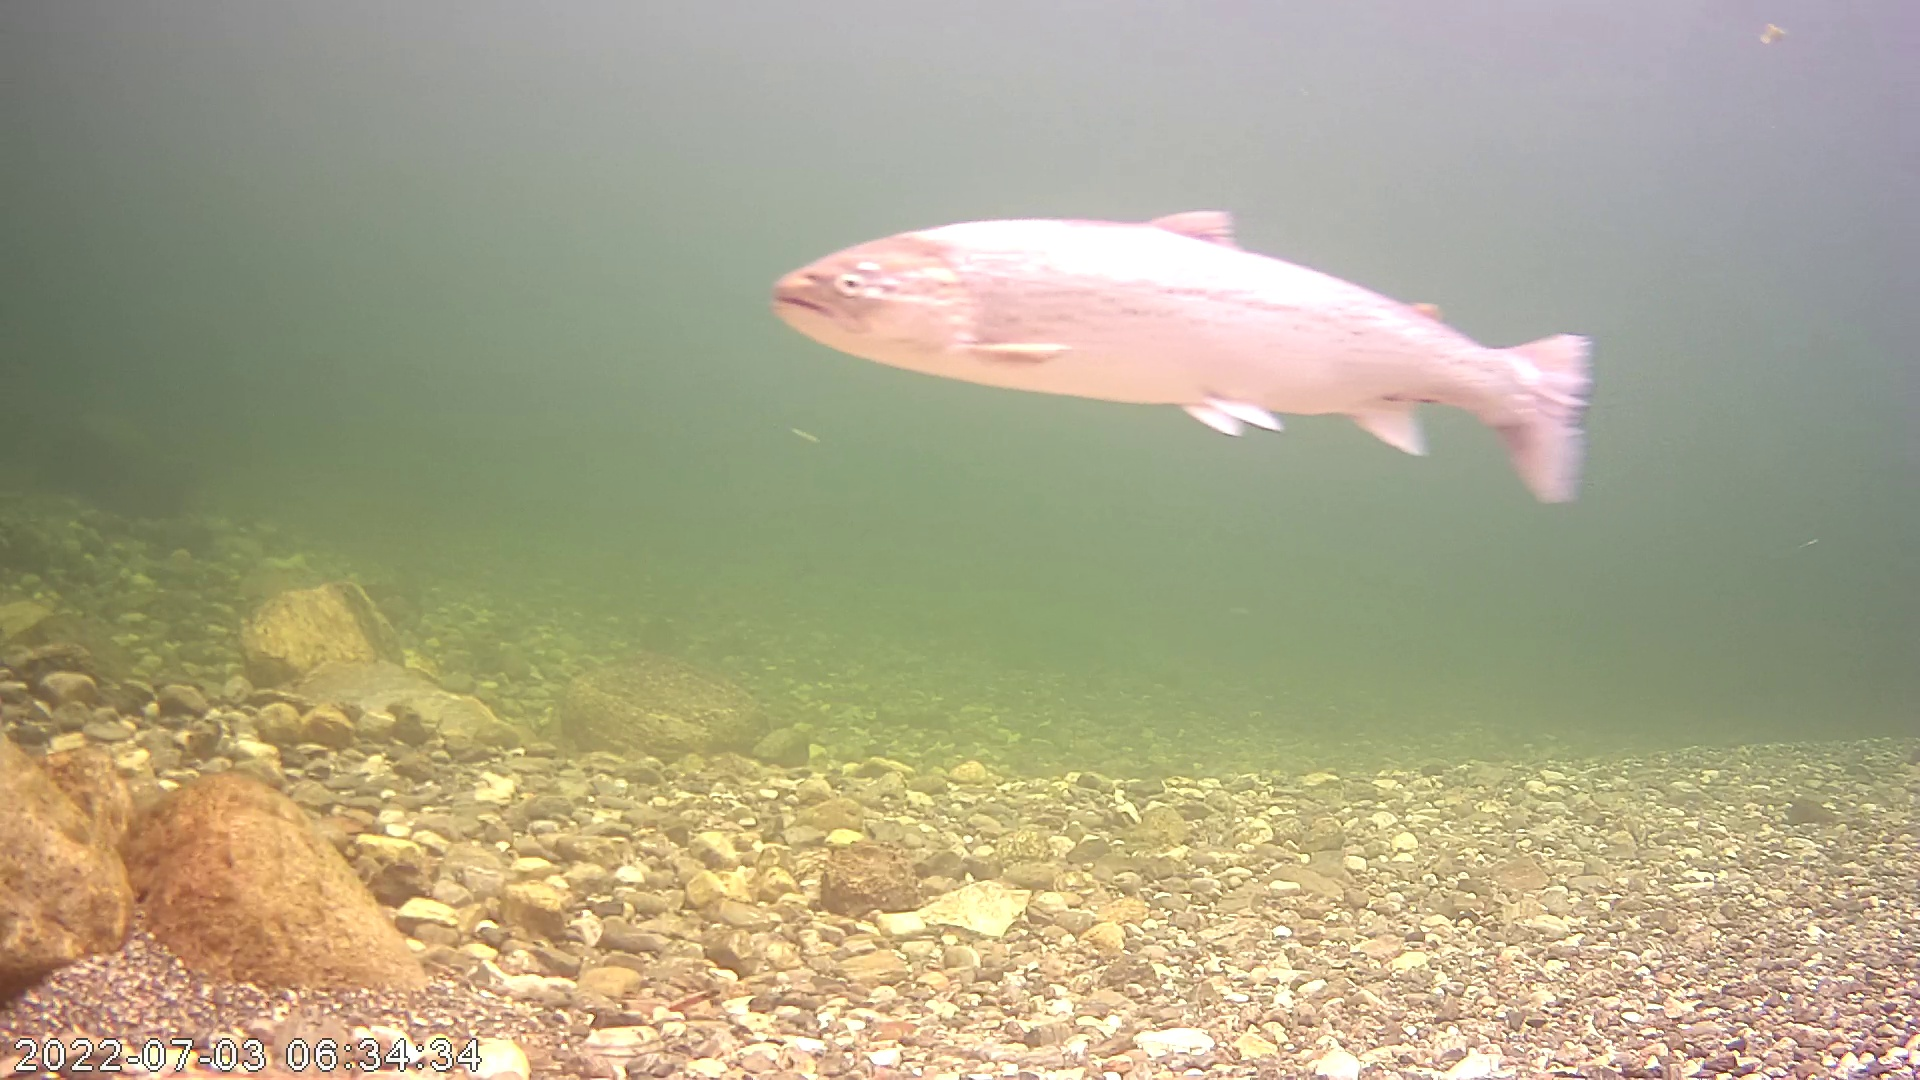salmon: (765, 200, 1600, 510)
